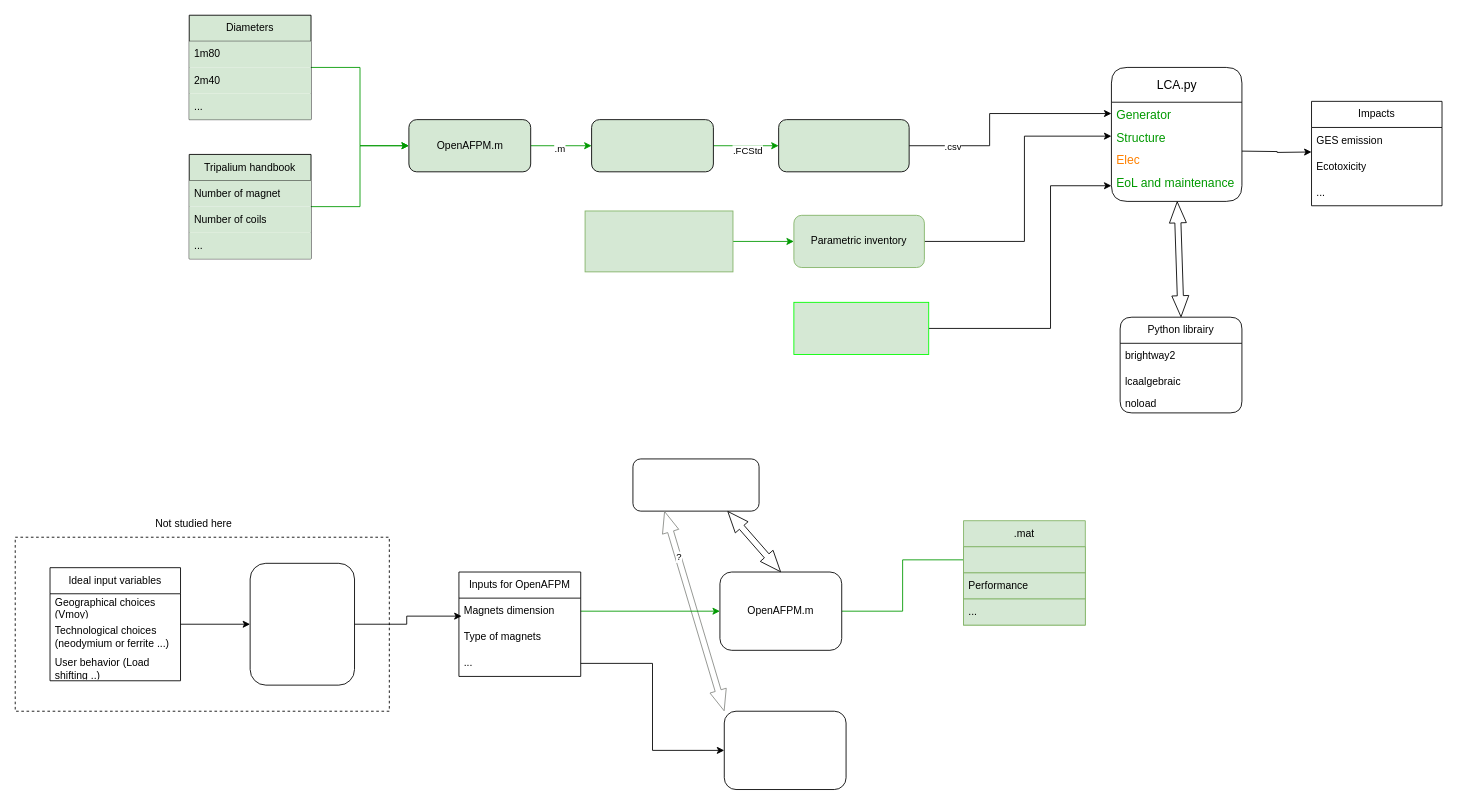
The diagram is 1457 pixels wide and 805 high, and some of its shapes have lost their labels. Here are the shapes that lost their labels. From the top down, the centre of each, then its label:
At point (652, 145): "CAD Core".
At point (843, 145): "exportvolumes.py".
At point (658, 241): "Tripalimum handbook Adrien Prevost's these".
At point (861, 328): "Interview with members of the Tripalium network".
At point (695, 484): "FEMM".
At point (1024, 559): "Mass of generator components".
At point (302, 623): "Turn ideal inputs into input for openAFPM".
At point (784, 750): "OpenAFPM.py".
